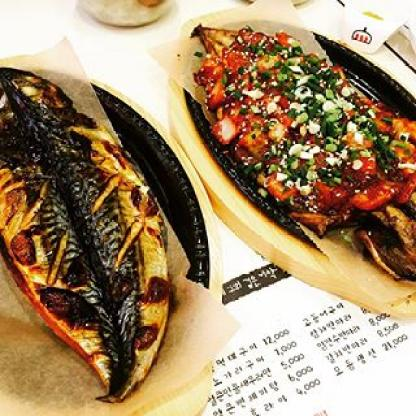Peixe: (0, 51, 173, 410)
